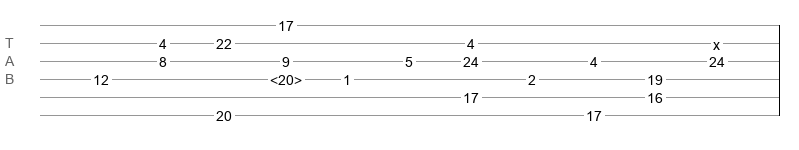1: (343, 72, 351, 82)
12: (93, 72, 109, 82)
16: (647, 90, 663, 100)
17: (278, 18, 294, 28), (463, 90, 479, 100), (586, 108, 602, 118)
19: (647, 72, 663, 82)
2: (528, 72, 536, 82)
20: (216, 108, 232, 118)
22: (216, 36, 232, 46)
24: (463, 54, 479, 64), (709, 54, 725, 64)
4: (159, 36, 167, 46), (467, 36, 475, 46), (590, 54, 598, 64)
5: (405, 54, 413, 64)
8: (159, 54, 167, 64)
9: (282, 54, 290, 64)
harmonic: (270, 72, 302, 82)
x: (713, 37, 720, 45)
